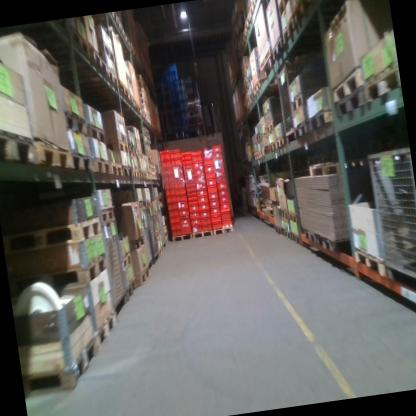pallet: (17, 331, 105, 401), (6, 251, 110, 301), (1, 213, 103, 255), (0, 119, 38, 177), (33, 131, 73, 181), (330, 63, 369, 103), (332, 81, 370, 122), (352, 241, 387, 280), (91, 307, 121, 350), (364, 69, 402, 102), (316, 224, 354, 253), (68, 20, 91, 65), (86, 36, 108, 81), (62, 107, 89, 143), (305, 155, 343, 179), (291, 0, 321, 29), (68, 147, 93, 178), (288, 86, 319, 110), (278, 13, 297, 48), (90, 152, 112, 182), (305, 109, 336, 130), (96, 35, 116, 66), (86, 117, 108, 145), (112, 19, 130, 51), (103, 137, 130, 158), (120, 275, 139, 303), (132, 262, 153, 286), (268, 36, 285, 62), (291, 119, 310, 142), (301, 223, 318, 247), (128, 232, 148, 252), (283, 126, 302, 147), (250, 78, 272, 96), (107, 157, 123, 181), (98, 204, 117, 224), (257, 55, 275, 76), (275, 0, 293, 20), (107, 66, 120, 92), (191, 227, 214, 241), (105, 11, 120, 31), (119, 251, 133, 271), (212, 225, 235, 237), (118, 78, 129, 102), (120, 160, 133, 180), (171, 233, 193, 244), (274, 134, 287, 151), (264, 119, 281, 132), (126, 138, 137, 157), (261, 205, 275, 218), (287, 209, 299, 224), (290, 229, 301, 245), (282, 226, 293, 242), (248, 89, 257, 105), (124, 69, 132, 87), (279, 207, 289, 221), (128, 91, 136, 108), (268, 141, 278, 152), (258, 146, 269, 156), (274, 224, 283, 236), (131, 168, 140, 180), (144, 197, 153, 209), (135, 148, 143, 160), (139, 169, 147, 181), (136, 200, 145, 210), (255, 133, 266, 141), (252, 151, 261, 160), (244, 100, 253, 109), (154, 228, 162, 237), (158, 245, 164, 256), (152, 211, 159, 220)
small_load_carrier: (180, 215, 191, 235), (158, 150, 171, 161), (169, 149, 181, 159), (220, 209, 231, 219), (210, 212, 221, 222), (170, 228, 182, 237), (163, 173, 173, 183), (165, 187, 175, 197), (211, 144, 222, 153), (205, 170, 216, 179), (192, 160, 203, 169), (194, 174, 205, 183), (195, 181, 206, 190), (197, 195, 208, 204), (198, 202, 209, 211), (199, 209, 210, 218), (189, 210, 200, 219), (172, 165, 183, 174), (175, 187, 186, 196), (177, 201, 188, 210), (178, 208, 189, 217), (161, 159, 172, 168), (167, 201, 178, 210), (169, 215, 180, 224), (222, 217, 232, 226), (219, 195, 229, 204), (209, 198, 219, 207), (173, 173, 183, 182), (203, 157, 214, 165), (204, 164, 215, 172), (206, 178, 217, 186), (212, 221, 223, 229), (191, 153, 202, 161), (193, 168, 204, 176), (196, 189, 207, 197), (201, 223, 212, 231), (188, 203, 199, 211), (190, 218, 201, 226), (171, 158, 182, 166), (174, 180, 185, 188), (176, 194, 187, 202), (166, 195, 177, 203), (215, 169, 225, 177), (218, 188, 228, 196), (208, 191, 218, 199), (192, 224, 202, 232), (164, 181, 174, 189), (213, 157, 224, 164), (168, 209, 179, 216), (170, 223, 181, 230), (216, 176, 226, 183), (217, 182, 227, 189), (220, 203, 230, 210), (207, 185, 217, 192), (210, 206, 220, 213), (201, 217, 211, 224), (181, 152, 191, 159), (162, 167, 172, 174), (212, 152, 223, 158), (188, 198, 197, 205), (214, 164, 224, 170), (181, 157, 191, 163), (184, 175, 194, 181), (185, 180, 195, 186), (186, 184, 196, 190), (187, 189, 196, 195), (182, 162, 192, 167), (183, 166, 193, 171), (183, 171, 193, 176), (187, 194, 197, 199)
stillage: (367, 146, 416, 281), (272, 55, 321, 144), (97, 212, 132, 318), (134, 202, 156, 275), (145, 202, 162, 264)
